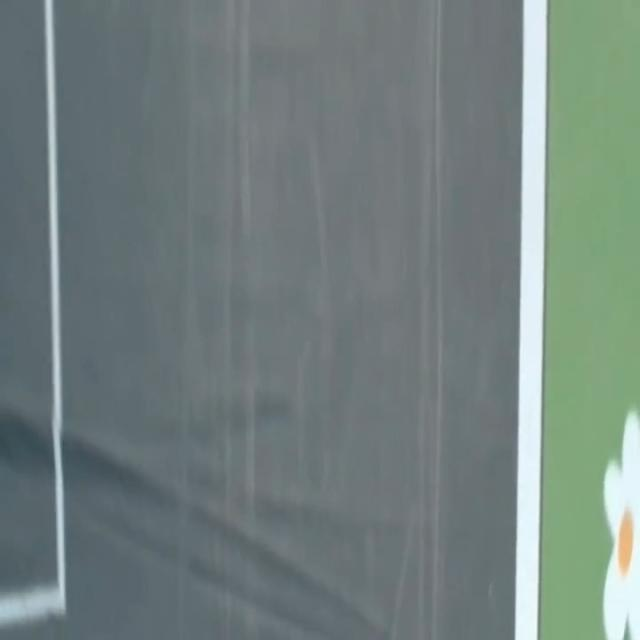right: (515, 0, 547, 639)
